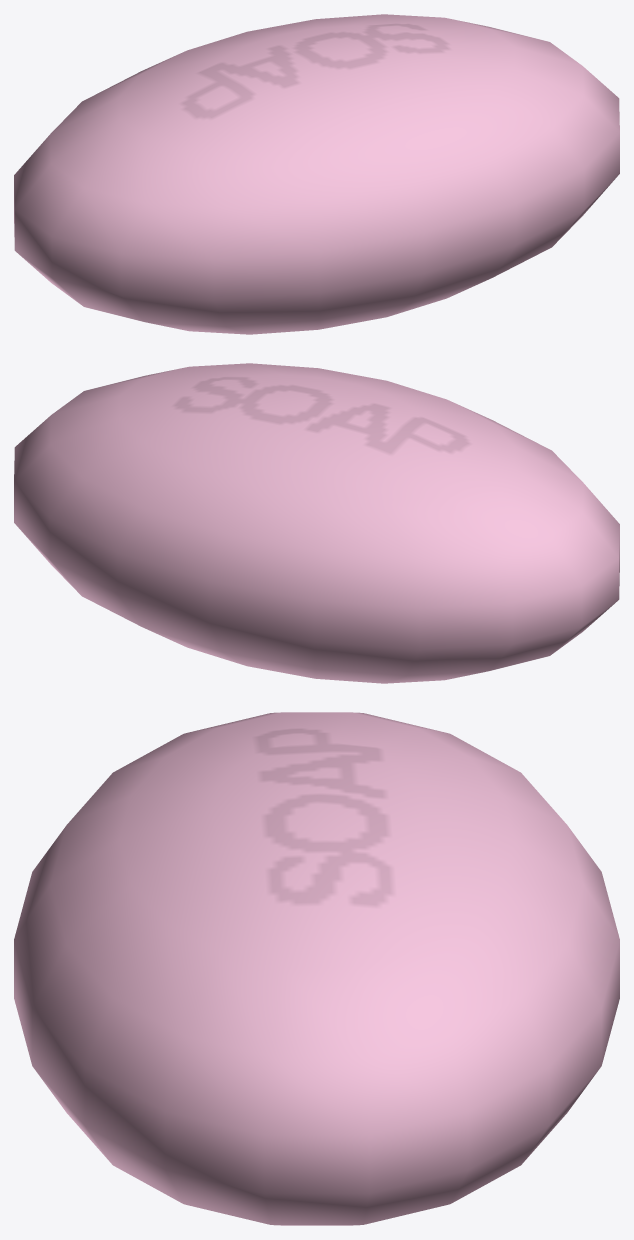
File: Soap.fbx
The picture shows the model from 3 angles, top to bottom: view 1: azimuth 30°, elevation 25°; view 2: azimuth 150°, elevation 25°; view 3: azimuth 270°, elevation 25°; orthographic projection. The views are drawn at different scales.
Parts seen in each view (by area): view 1: Soap; view 2: Soap; view 3: Soap.
Boxes of the visible parts, <box> form: Soap: <box>14,14,619,334</box>; Soap: <box>14,363,619,683</box>; Soap: <box>14,712,619,1225</box>.
Size of the model in its own units: 4.87 by 1.96 by 3.2.
Materials: 1 (1 with a texture image).
